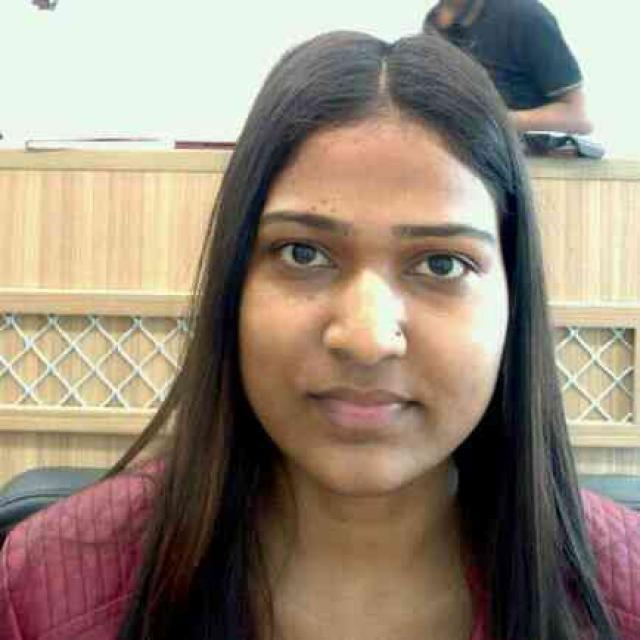puffy_eyes: (394, 273, 480, 308), (265, 259, 341, 293)
